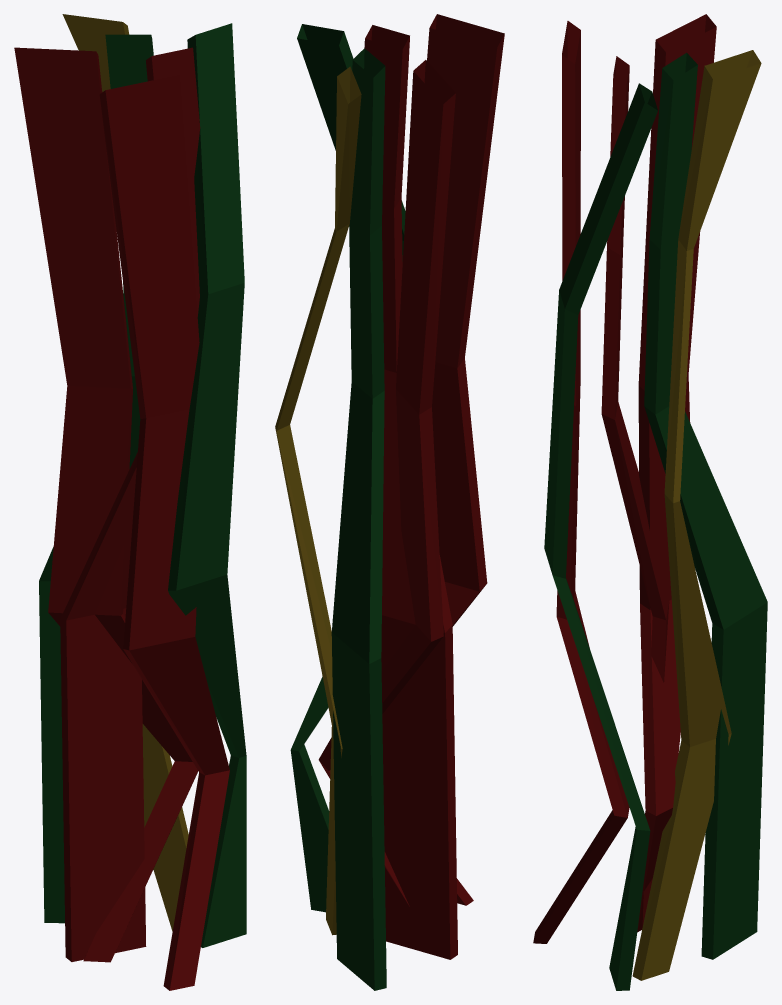
The model's file is saramagoClean1.glb.
The picture shows the model from 3 angles, left to right: view 1: azimuth 30°, elevation 25°; view 2: azimuth 150°, elevation 25°; view 3: azimuth 270°, elevation 25°; orthographic projection.
Parts seen in each view (by area): view 1: saramago; view 2: saramago; view 3: saramago.
Boxes of the visible parts, x1=… form: saramago: x1=14, y1=14, x2=246, y2=990; saramago: x1=275, y1=14, x2=504, y2=990; saramago: x1=533, y1=14, x2=767, y2=990.
Bounding box in the file's own units: 3.34 × 14.49 × 3.44.
